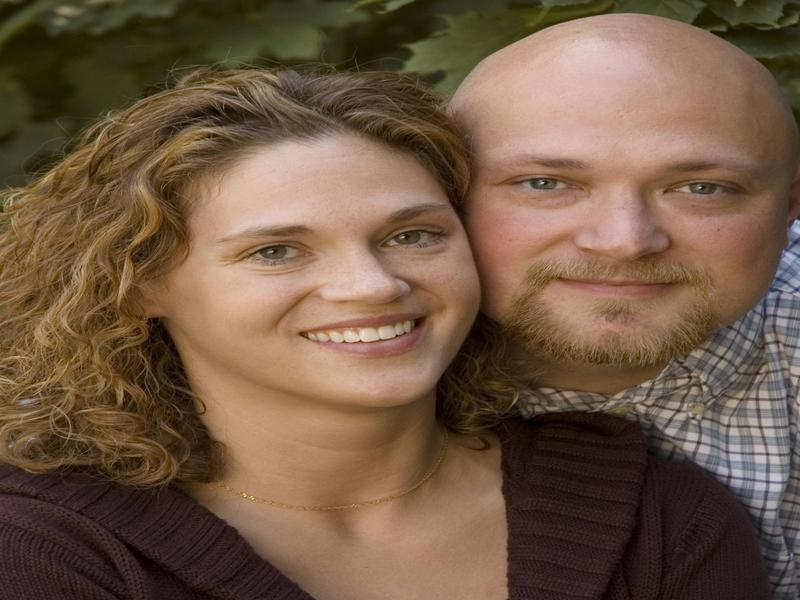person: (27, 63, 727, 600), (444, 10, 800, 586)
